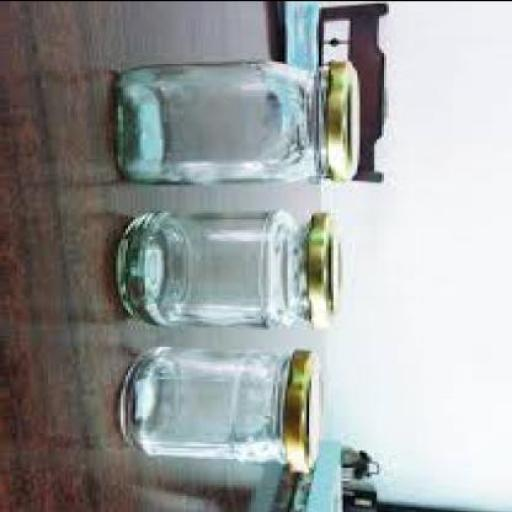glass: (119, 56, 333, 182), (121, 206, 316, 328), (125, 344, 292, 460)
metal: (284, 348, 326, 466), (309, 209, 351, 326), (330, 56, 365, 174)
